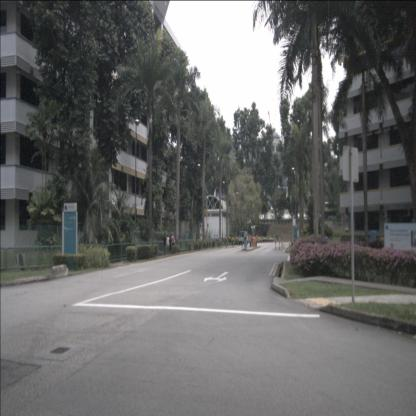human-pedestrian-adult: (171, 232, 175, 253), (166, 234, 170, 254), (163, 232, 166, 253), (169, 235, 171, 254)
vehicle-truck: (238, 230, 249, 246)
